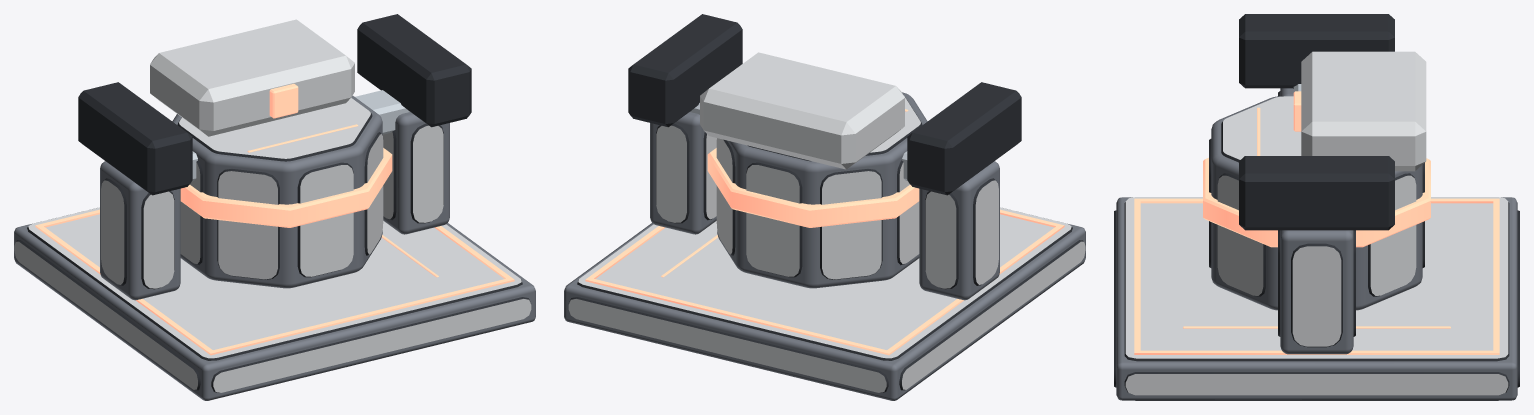
The model's file is R4X_OffensiveTurretDeployer.fbx.
3 views of the same model, side by side, from view 1: azimuth 30°, elevation 25°; view 2: azimuth 150°, elevation 25°; view 3: azimuth 270°, elevation 25° (orthographic). The views are drawn at different scales.
Visible parts, largest first — view 1: R4X_OffensiveTurretDeployer_Body, R4X_OffensiveTurretDeployer_Pod; view 2: R4X_OffensiveTurretDeployer_Body, R4X_OffensiveTurretDeployer_Pod; view 3: R4X_OffensiveTurretDeployer_Body, R4X_OffensiveTurretDeployer_Pod.
Part boxes in pixels (<box>): R4X_OffensiveTurretDeployer_Body: <box>14,14,535,400</box>; R4X_OffensiveTurretDeployer_Pod: <box>150,19,392,288</box>; R4X_OffensiveTurretDeployer_Body: <box>564,14,1085,400</box>; R4X_OffensiveTurretDeployer_Pod: <box>700,52,927,288</box>; R4X_OffensiveTurretDeployer_Body: <box>1114,14,1519,400</box>; R4X_OffensiveTurretDeployer_Pod: <box>1203,51,1430,310</box>.
Size of the model in its own units: 0.52 by 0.33 by 0.52.
